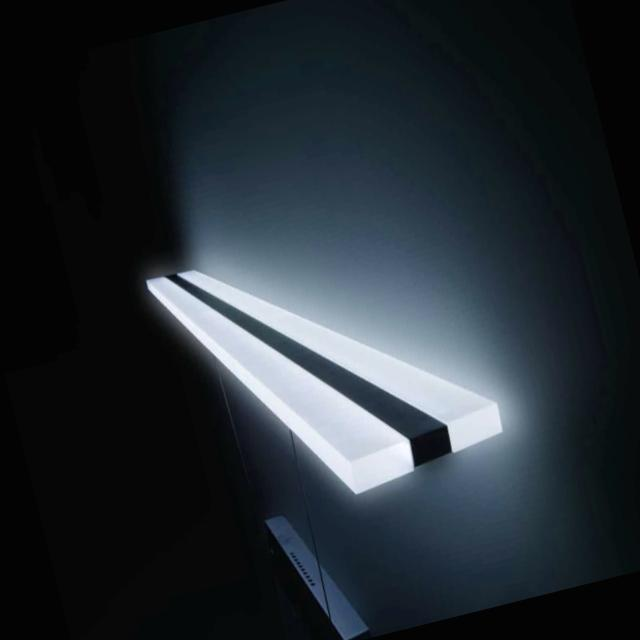light: (144, 267, 503, 496)
